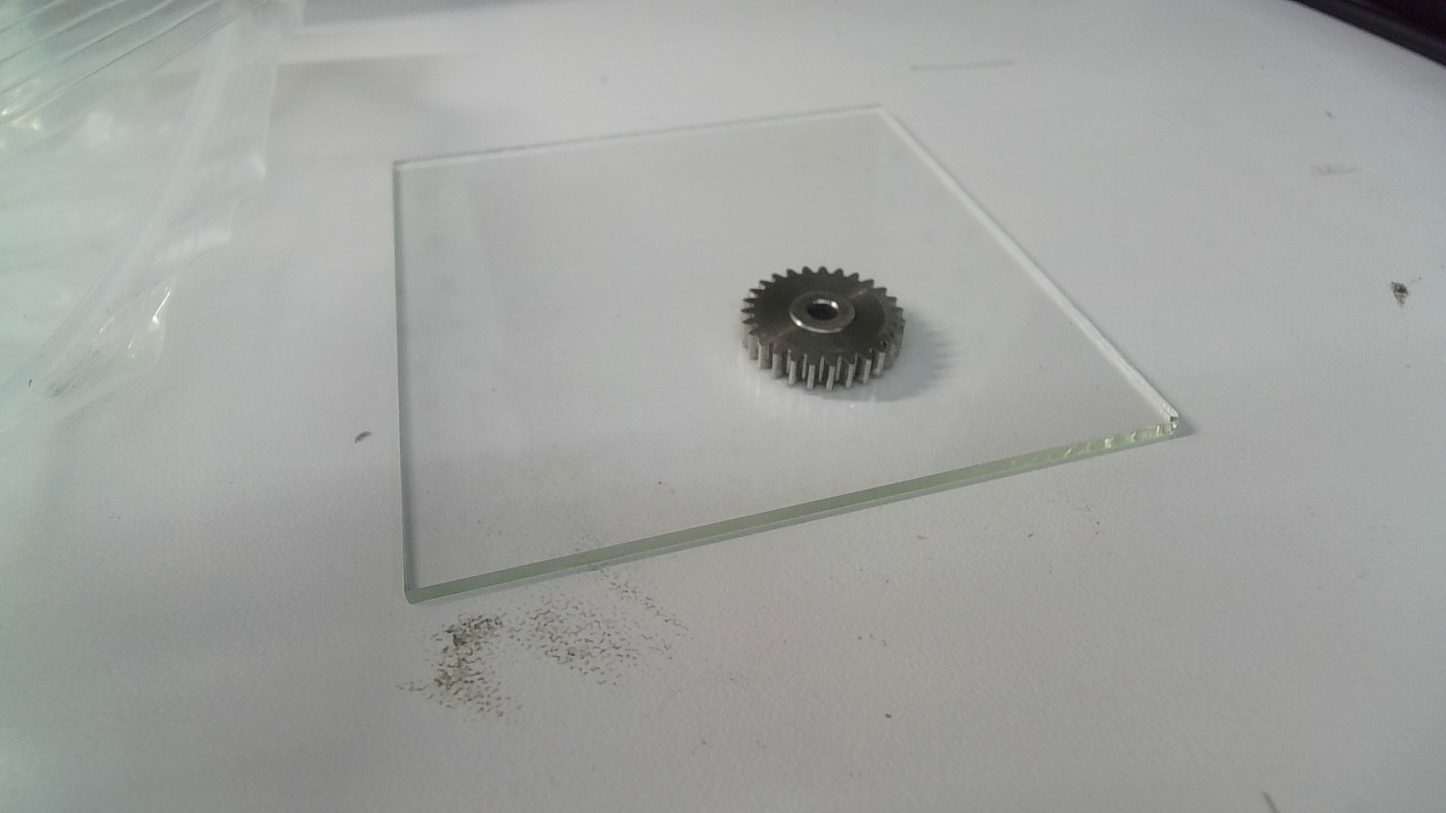gear: (736, 264, 909, 395)
